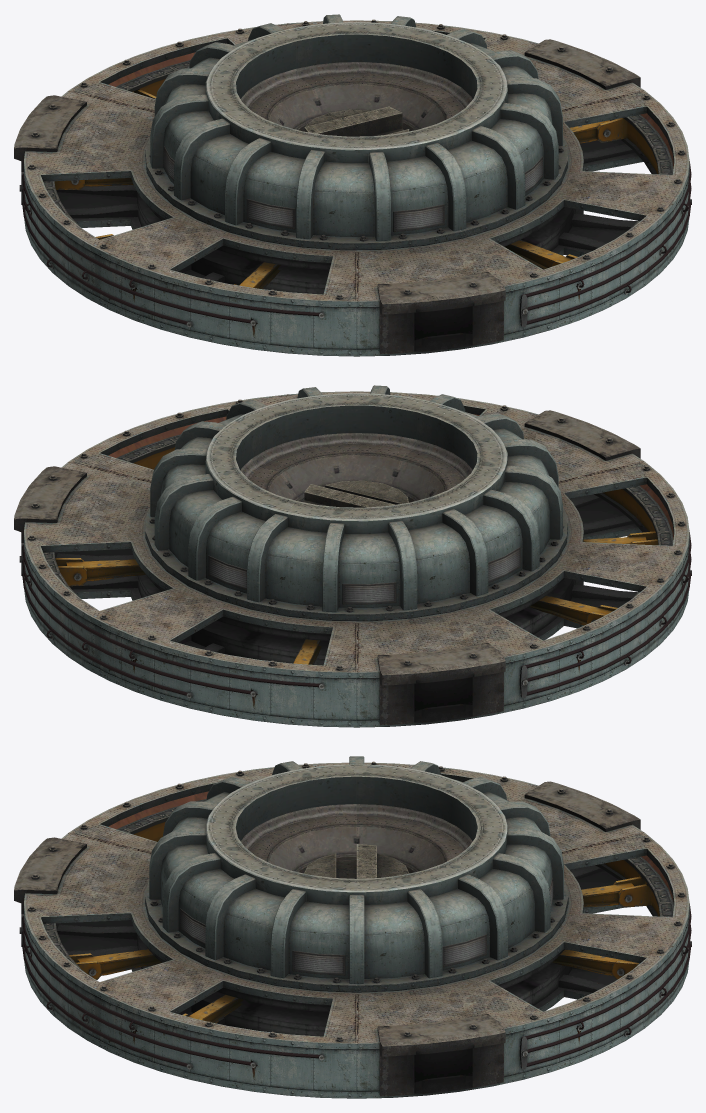
The picture shows the model from 3 angles, top to bottom: view 1: azimuth 30°, elevation 25°; view 2: azimuth 150°, elevation 25°; view 3: azimuth 270°, elevation 25°; orthographic projection.
Parts seen in each view (by area): view 1: gen 1_0, gen 3_2; view 2: gen 1_0, gen 3_2; view 3: gen 1_0, gen 3_2.
Boxes of the visible parts, left/top/right/bottom form: gen 1_0: left=14, top=14, right=691, bottom=356; gen 3_2: left=43, top=60, right=673, bottom=289; gen 1_0: left=14, top=385, right=691, bottom=727; gen 3_2: left=43, top=434, right=673, bottom=664; gen 1_0: left=14, top=756, right=691, bottom=1098; gen 3_2: left=43, top=799, right=673, bottom=1023.
Size of the model in its own units: 10.76 by 3.23 by 10.72.
Materials: 3 (3 with a texture image).
